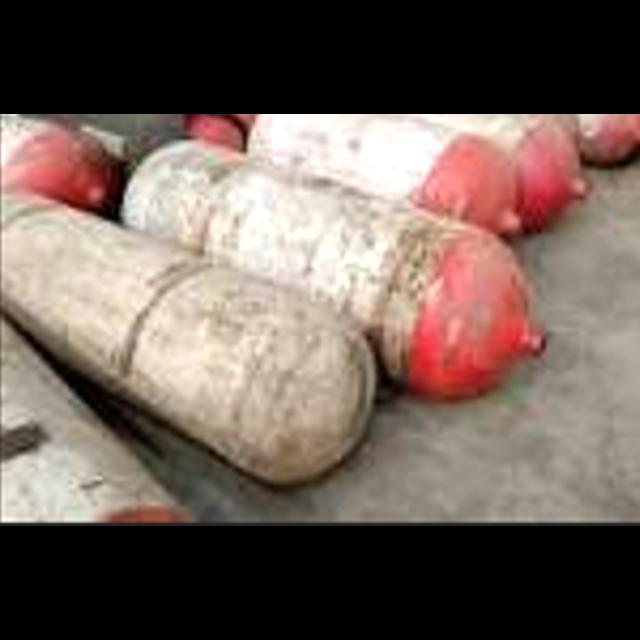Cylinders: (124, 134, 554, 399), (0, 185, 374, 482)
